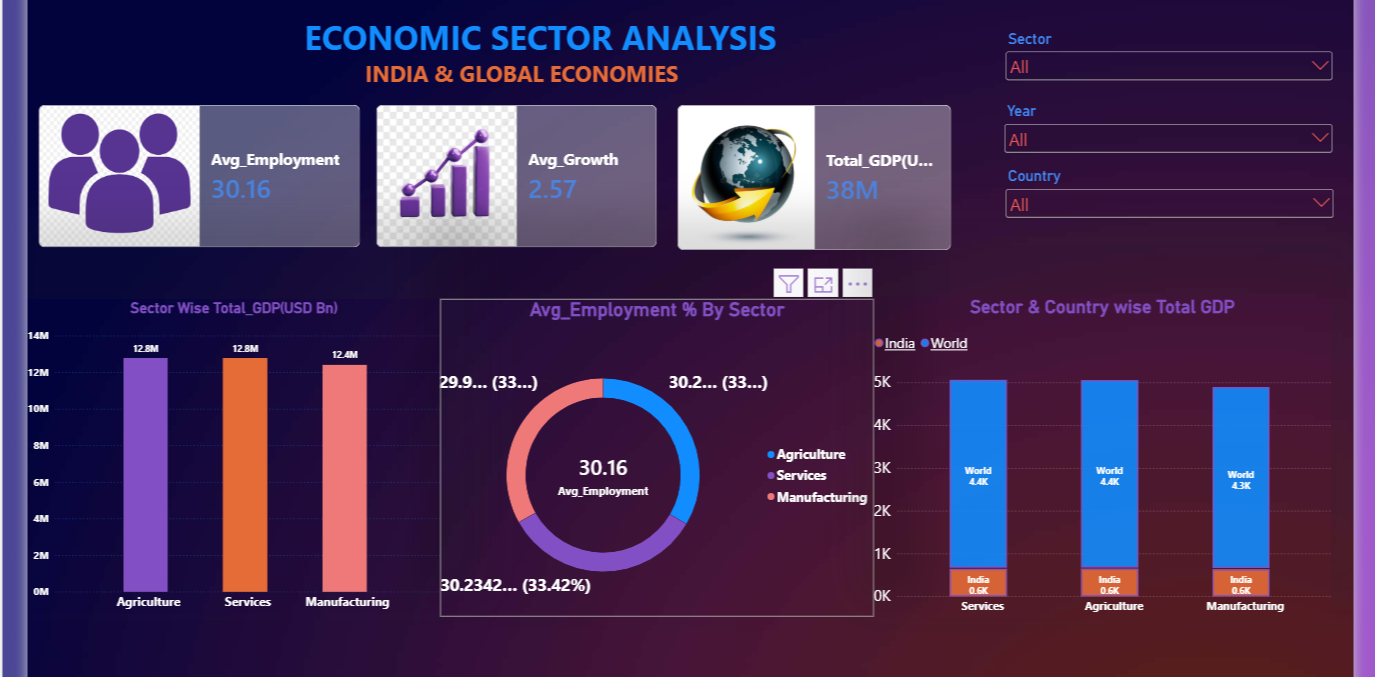

Layout of this report page (visuals, bound fields, positions):
{"tool":"powerbi","page":{"name":"Executive Overiew","canvas":[1920,1080],"ordinal":0},"visuals":[{"type":"textbox","box":[65,62.5,1355,152.5],"z":0},{"type":"cardVisual","fields":{"Data":["Ecnonomic_Data.Avg_Employment"]},"box":[16.3,195.4,465.1,206.3],"z":1000},{"type":"cardVisual","fields":{"Data":["Ecnonomic_Data.Avg_Growth"]},"box":[505,196.2,407,206.6],"z":2000},{"type":"cardVisual","fields":{"Data":["Ecnonomic_Data.Total_GDP(USD Bn)"]},"box":[941.2,196.2,396.5,210.8],"z":3000},{"type":"clusteredColumnChart","title":"Sector Wise Total_GDP(USD Bn)","fields":{"Category":["Ecnonomic_Data.Sector"],"Y":["Ecnonomic_Data.Total_GDP(USD Bn)"]},"box":[0,476.1,597.3,456],"z":4000},{"type":"donutChart","title":"Avg_Employment % By Sector","fields":{"Category":["Ecnonomic_Data.Sector"],"Y":["Ecnonomic_Data.Avg_Employment"]},"box":[597.2,475.9,628.3,460],"z":5000},{"type":"columnChart","title":"Sector & Country wise Total GDP","fields":{"Category":["Ecnonomic_Data.Sector"],"Series":["Ecnonomic_Data.Country_type"],"Y":["CountNonNull(Ecnonomic_Data.Sector)"]},"box":[1225.1,472.3,661.6,465.4],"z":6000},{"type":"slicer","fields":{"Values":["Ecnonomic_Data.Sector"]},"box":[1411.8,87.2,482.7,108.4],"z":7000},{"type":"slicer","fields":{"Values":["Ecnonomic_Data.Year"]},"box":[1410.4,192.2,484.2,91.8],"z":8000},{"type":"slicer","fields":{"Values":["Ecnonomic_Data.Country"]},"box":[1410.8,285.9,484.2,81.4],"z":9000}]}

Visuals, with their boxes on the page's 1920x1080 design canvas (x1, y1, x2, y2). These are canvas units, not pixel positions in the 1375x677 screenshot, which may show the page scaled, cropped or inside an application window:
textbox: box(65, 62, 1420, 215)
cardVisual - Ecnonomic_Data.Avg_Employment: box(16, 195, 481, 402)
cardVisual - Ecnonomic_Data.Avg_Growth: box(505, 196, 912, 403)
cardVisual - Ecnonomic_Data.Total_GDP(USD Bn): box(941, 196, 1338, 407)
"Sector Wise Total_GDP(USD Bn)" clusteredColumnChart: box(0, 476, 597, 932)
"Avg_Employment % By Sector" donutChart: box(597, 476, 1226, 936)
"Sector & Country wise Total GDP" columnChart: box(1225, 472, 1887, 938)
slicer - Ecnonomic_Data.Sector: box(1412, 87, 1894, 196)
slicer - Ecnonomic_Data.Year: box(1410, 192, 1895, 284)
slicer - Ecnonomic_Data.Country: box(1411, 286, 1895, 367)
